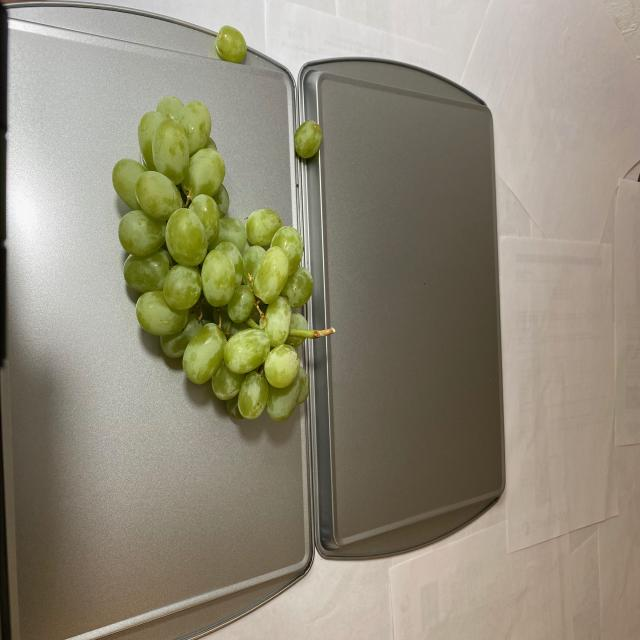grapes: (109, 96, 327, 462), (210, 23, 248, 68)
